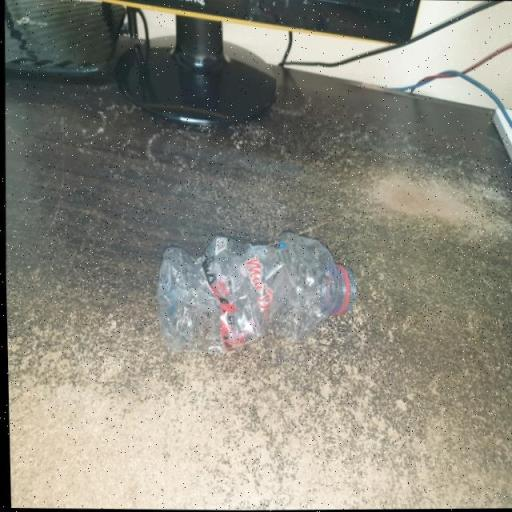plastic: (150, 230, 359, 360)
